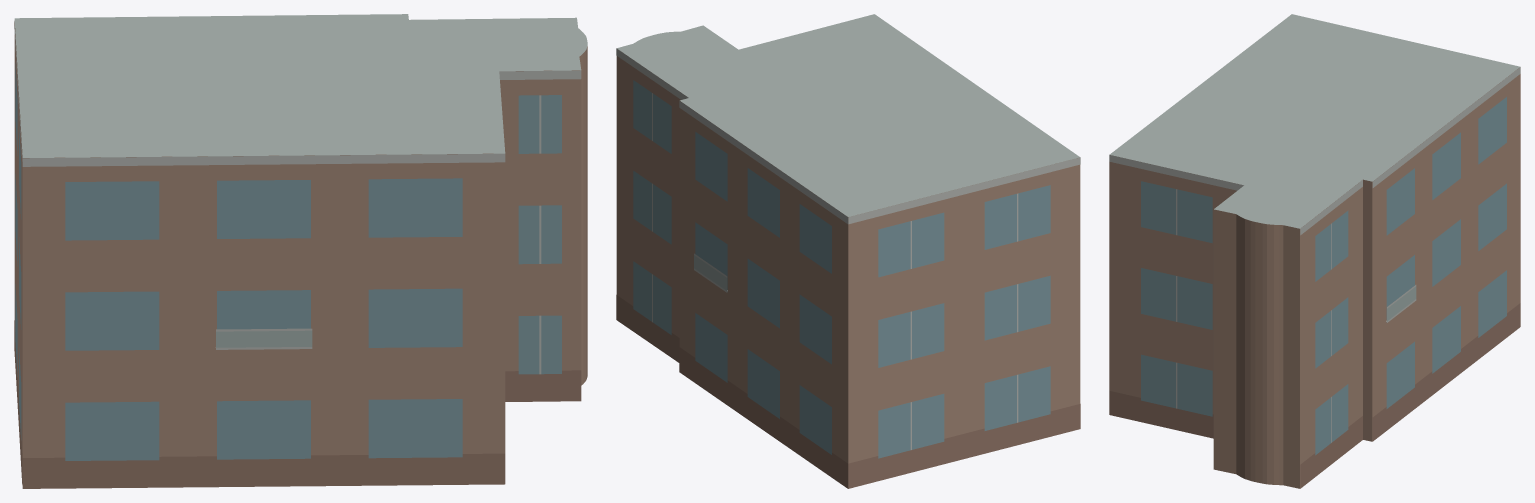
File: survey-upis-32660954.glb
3 renders of one model, left to right at view 1: azimuth 30°, elevation 25°; view 2: azimuth 150°, elevation 25°; view 3: azimuth 270°, elevation 25°, orthographic. The views are drawn at different scales.
Visible parts, largest first — view 1: survey-upis-32660954.tmp; view 2: survey-upis-32660954.tmp; view 3: survey-upis-32660954.tmp.
Part boxes in pixels (box(x1,y1,x2,y2)): survey-upis-32660954.tmp: box(14, 14, 587, 488); survey-upis-32660954.tmp: box(616, 14, 1080, 488); survey-upis-32660954.tmp: box(1109, 14, 1520, 488).
Bounding box in the file's own units: 16.2 × 9.15 × 13.12.
